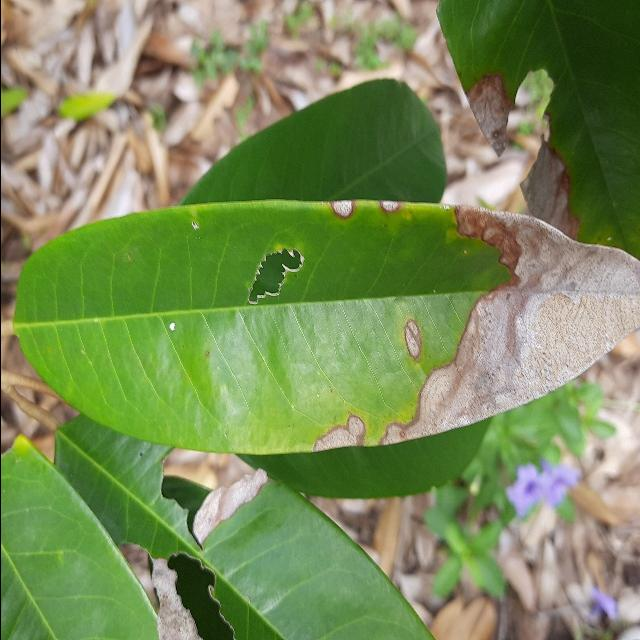Leaf Blight: (3, 182, 640, 465)
